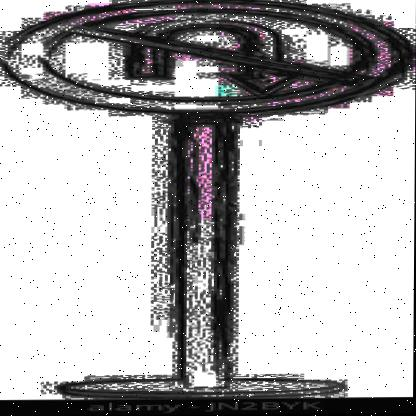No U-turn: (0, 0, 416, 126)
